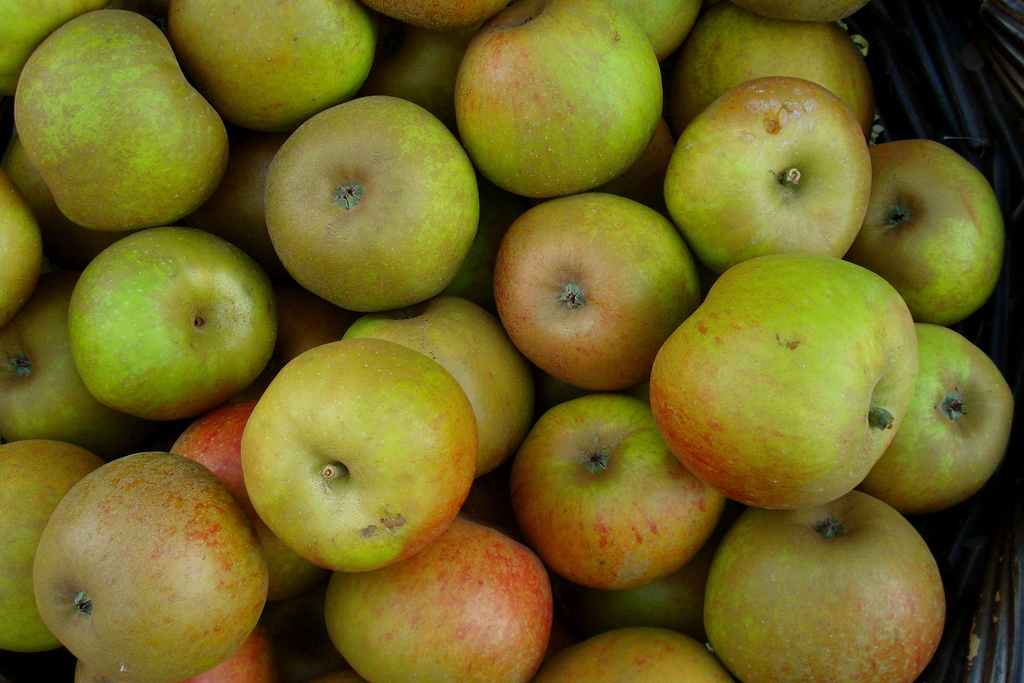Apple: (0, 0, 1019, 682), (240, 335, 478, 575), (69, 231, 277, 418)
